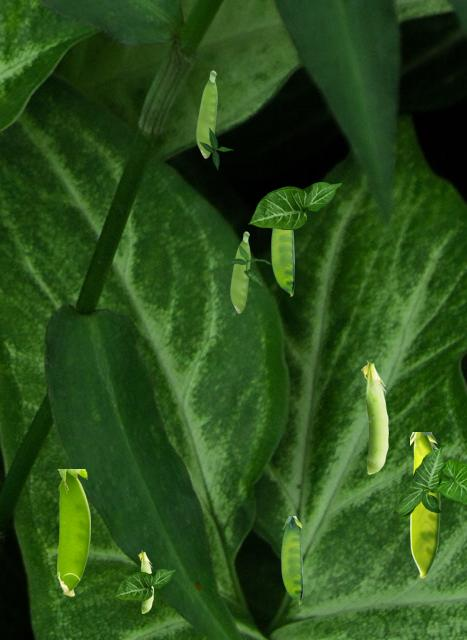pea: (410, 432, 439, 577), (57, 469, 89, 595), (361, 360, 387, 473), (196, 70, 216, 157), (281, 516, 301, 603), (230, 231, 249, 312), (271, 229, 293, 295), (138, 550, 152, 612)
